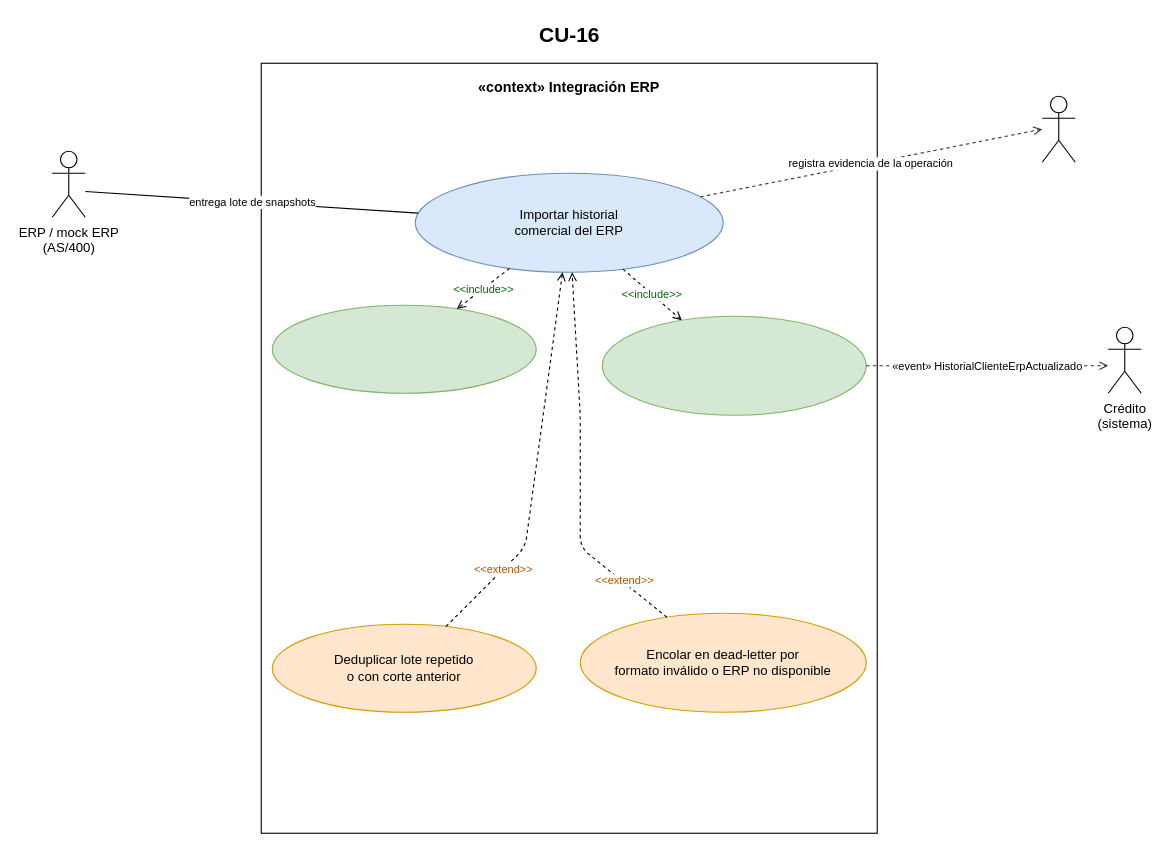
Some shapes in this 1170 by 853 pixel diagram are drawn without their labels. Each missing label, with the centre of its shape:
"Auditoría (sistema)" goes at (1058,128).
"Persistir y publicar HistorialClienteErpActualizado (Outbox)" goes at (733,365).
"Validar y traducir lote (capa anticorrupción)" goes at (403,348).
